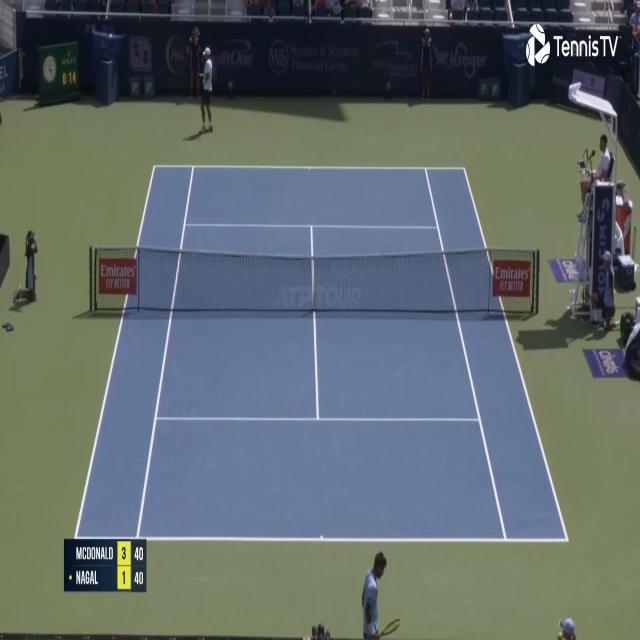tennis-player: (359, 547, 401, 640), (195, 44, 217, 136)
